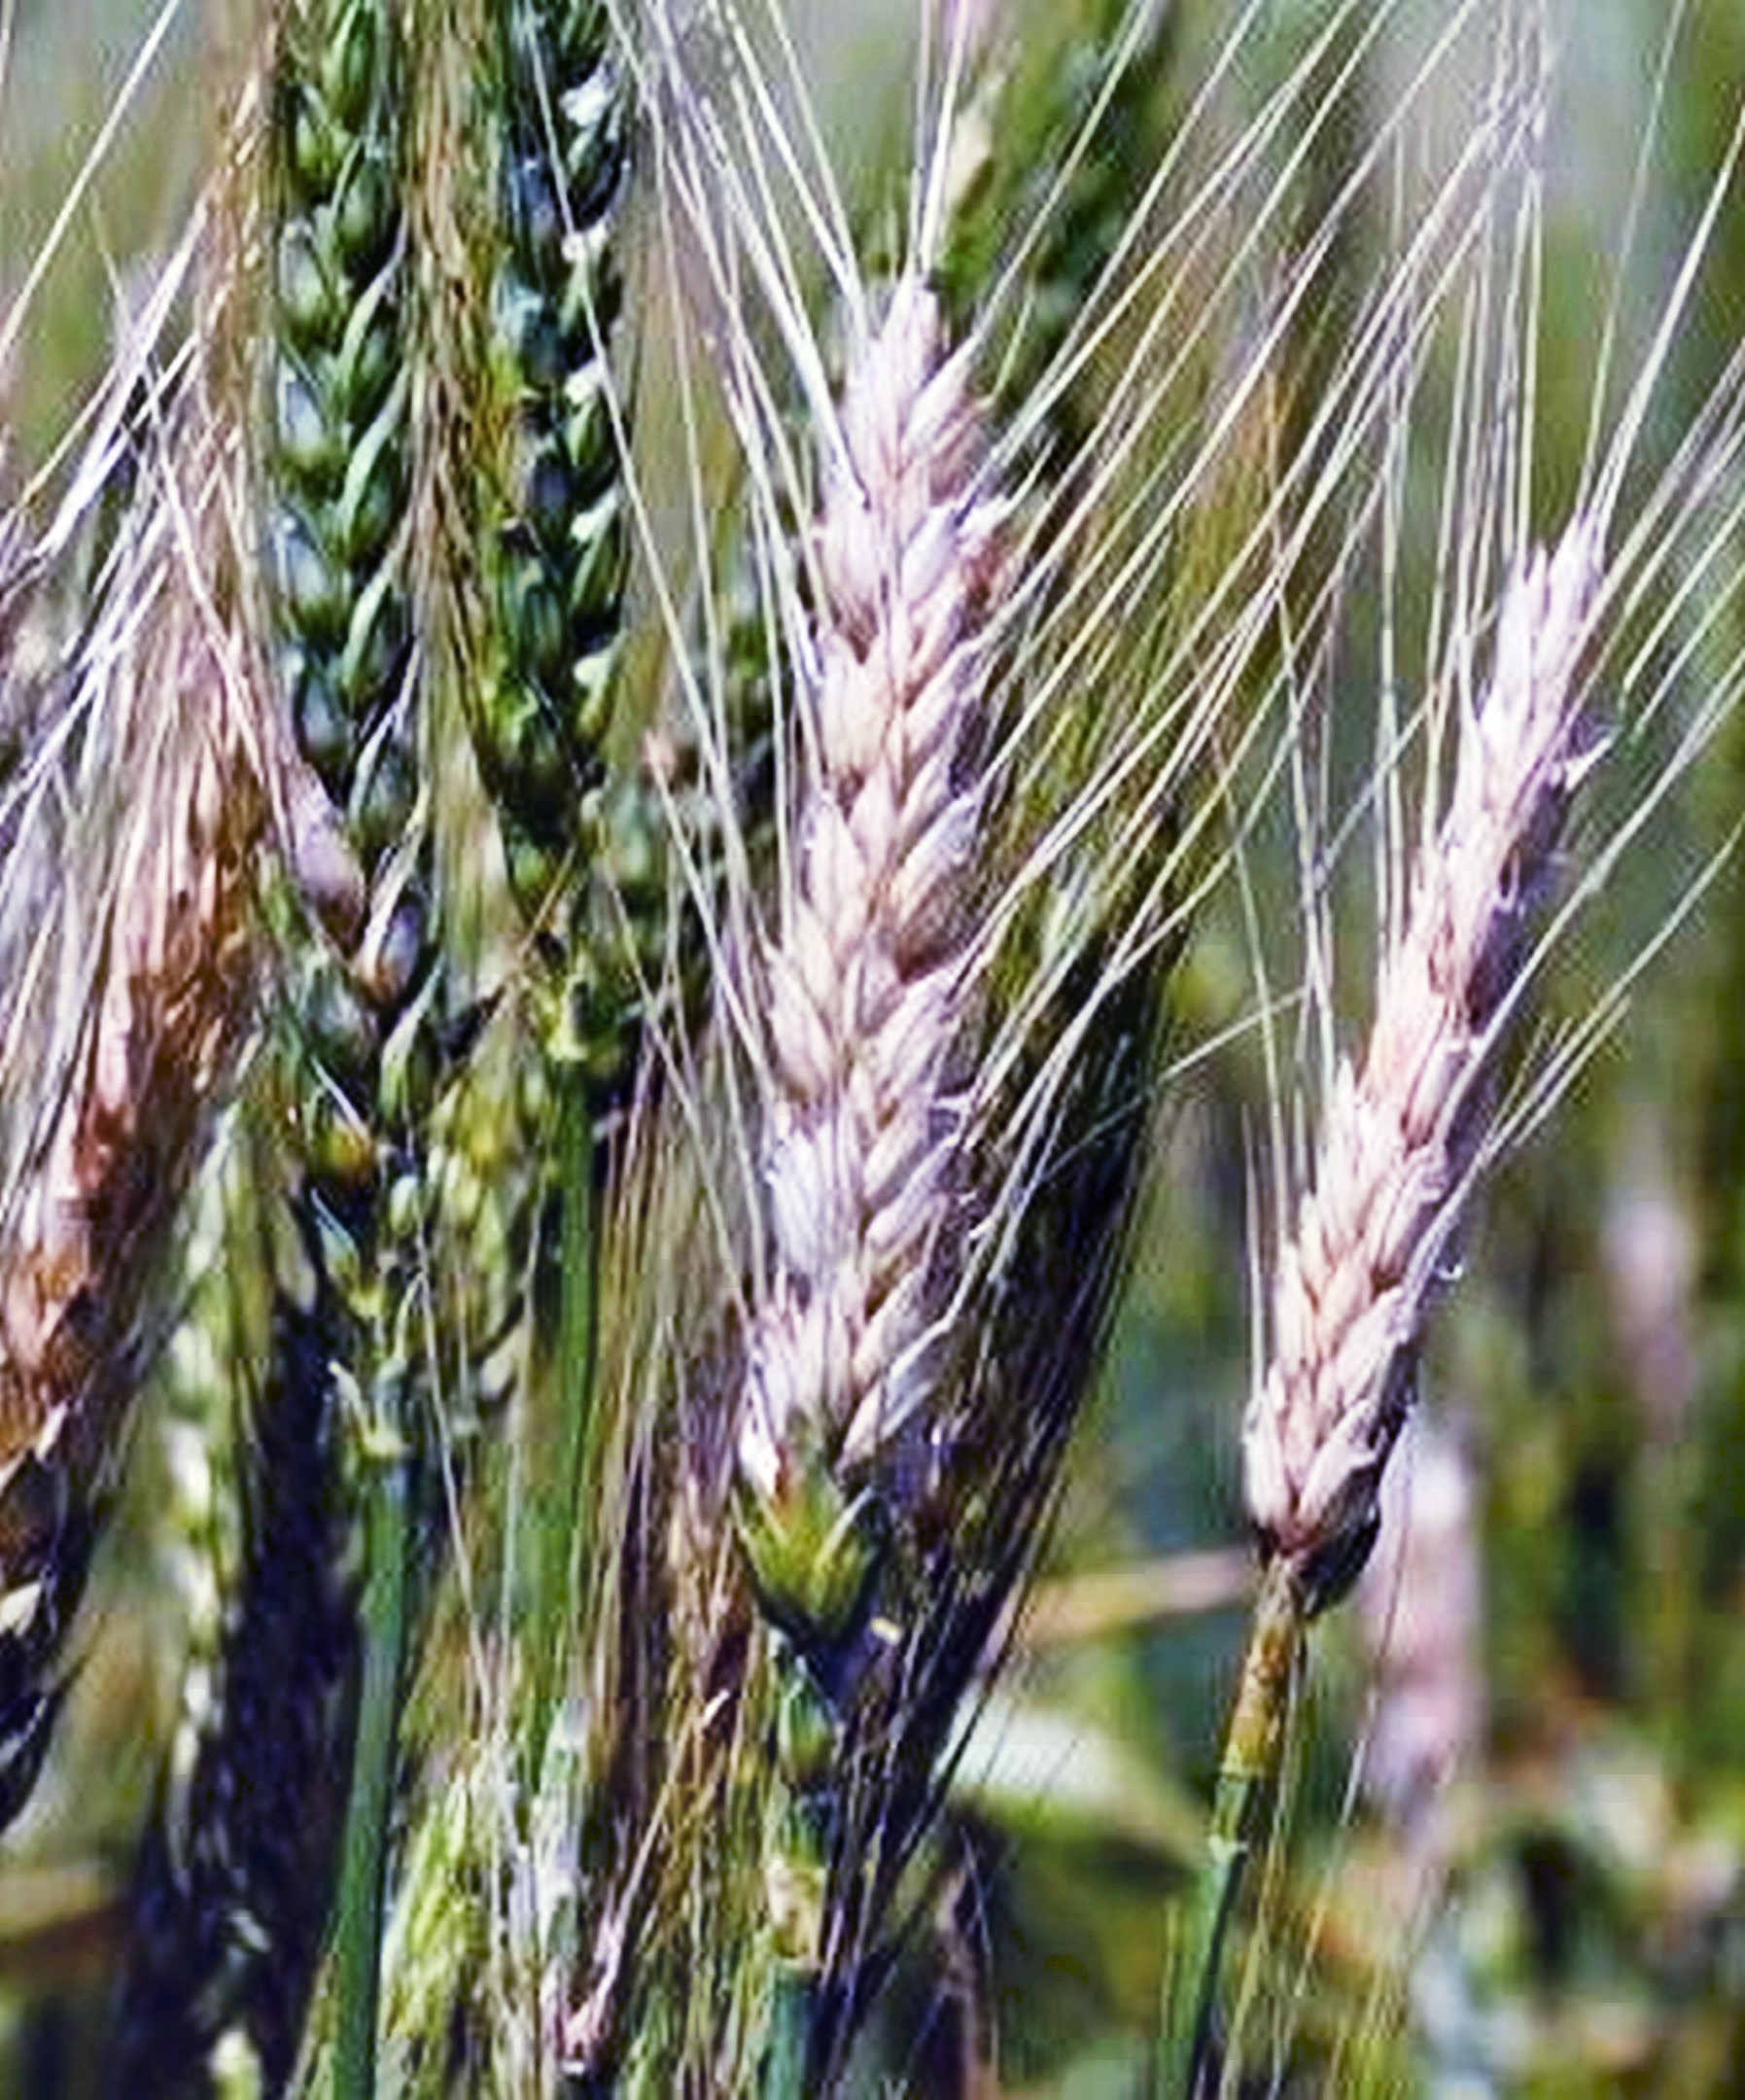Wheat scab: (1219, 502, 1665, 1580), (718, 260, 1056, 1638)
